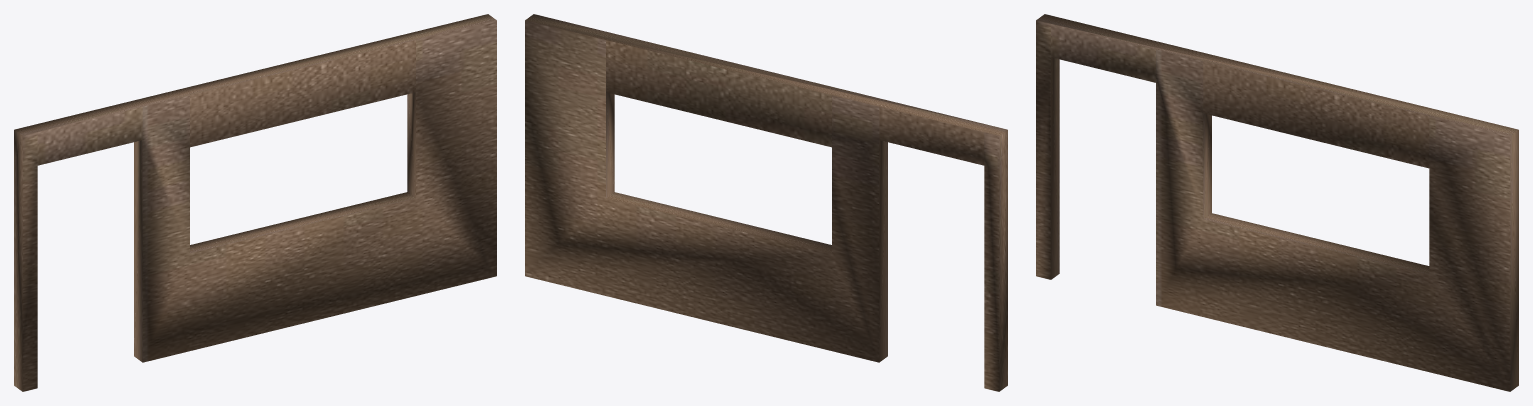
File: paredes audio3.fbx
3 views of the same model, side by side, from view 1: azimuth 30°, elevation 25°; view 2: azimuth 150°, elevation 25°; view 3: azimuth 330°, elevation 25° (orthographic).
Visible parts, largest first — view 1: Cube; view 2: Cube; view 3: Cube.
Boxes of the visible parts, bbox=[...] form: Cube: bbox=[14, 14, 496, 391]; Cube: bbox=[525, 14, 1007, 391]; Cube: bbox=[1036, 14, 1518, 391].
Bounding box in the file's own units: 14.32 × 7.39 × 0.4528.
1 material, 1 textured.
